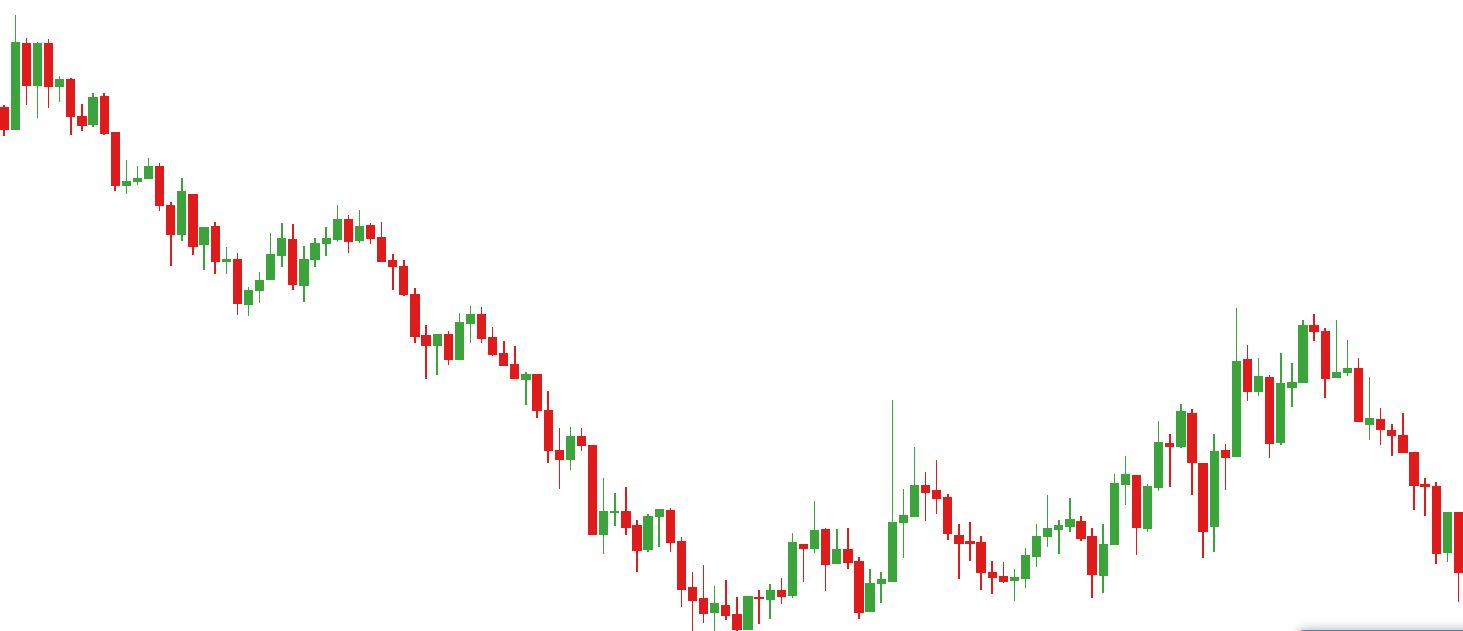buy: (1142, 444, 1224, 560), (1011, 529, 1109, 605)
